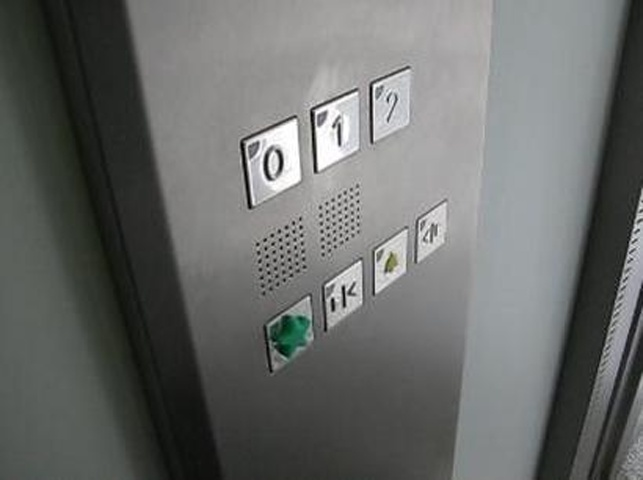0: (238, 114, 304, 209)
1: (311, 87, 361, 173)
2: (368, 62, 414, 147)
alarm: (373, 227, 407, 296)
close: (322, 258, 366, 332)
open: (416, 200, 448, 265)
unknown: (265, 295, 315, 373)
